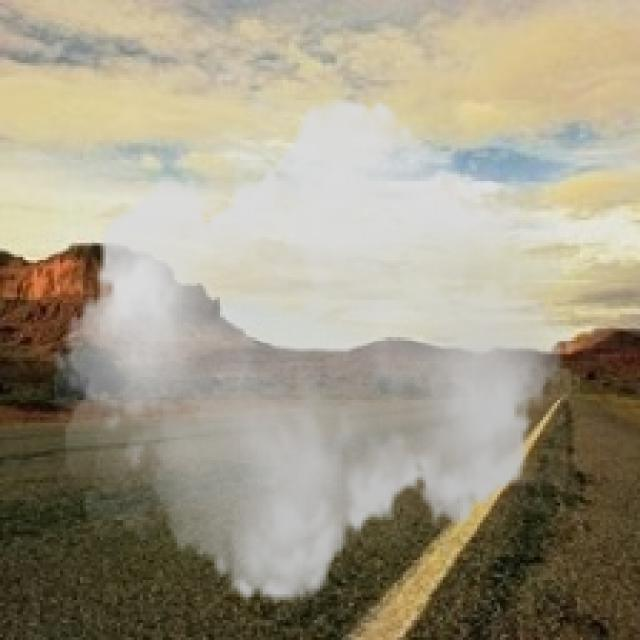smoke: (54, 77, 574, 623)
